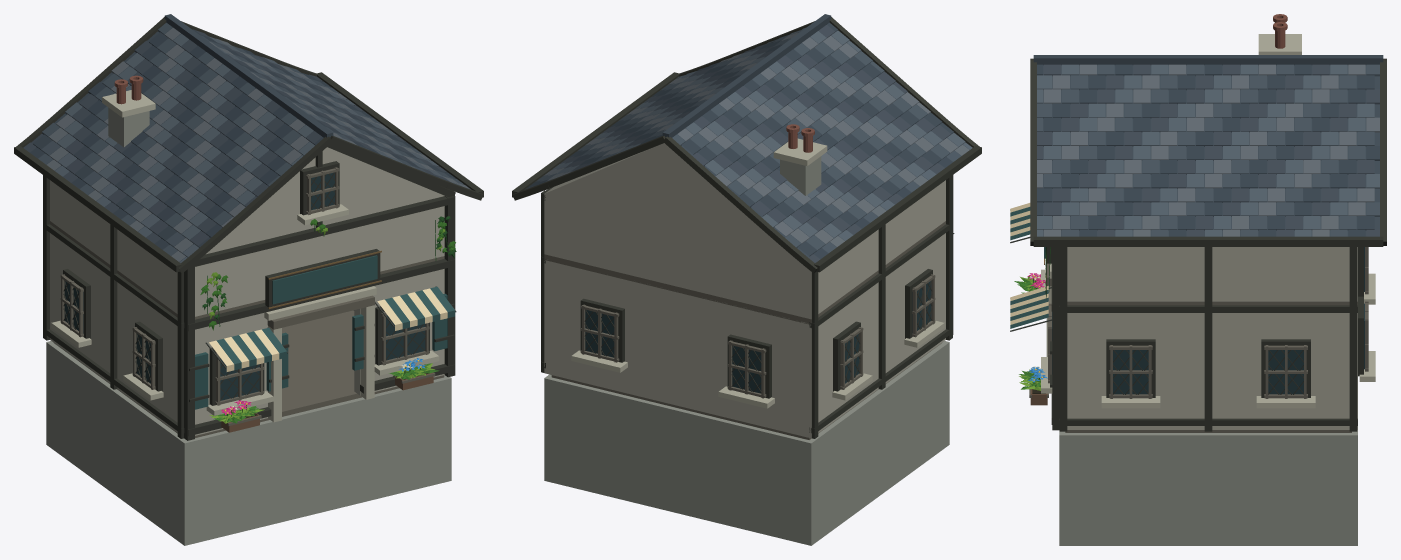
File: village_apothecary.glb
3 renders of one model, left to right at view 1: azimuth 30°, elevation 25°; view 2: azimuth 150°, elevation 25°; view 3: azimuth 270°, elevation 25°, orthographic. The views are drawn at different scales.
Visible parts, largest first — view 1: village_apothecary; view 2: village_apothecary; view 3: village_apothecary.
Part boxes in pixels (<box>): village_apothecary: <box>14,14,483,545</box>; village_apothecary: <box>512,14,981,545</box>; village_apothecary: <box>1010,14,1386,545</box>.
Bounding box in the file's own units: 8.98 × 10.84 × 8.83.
